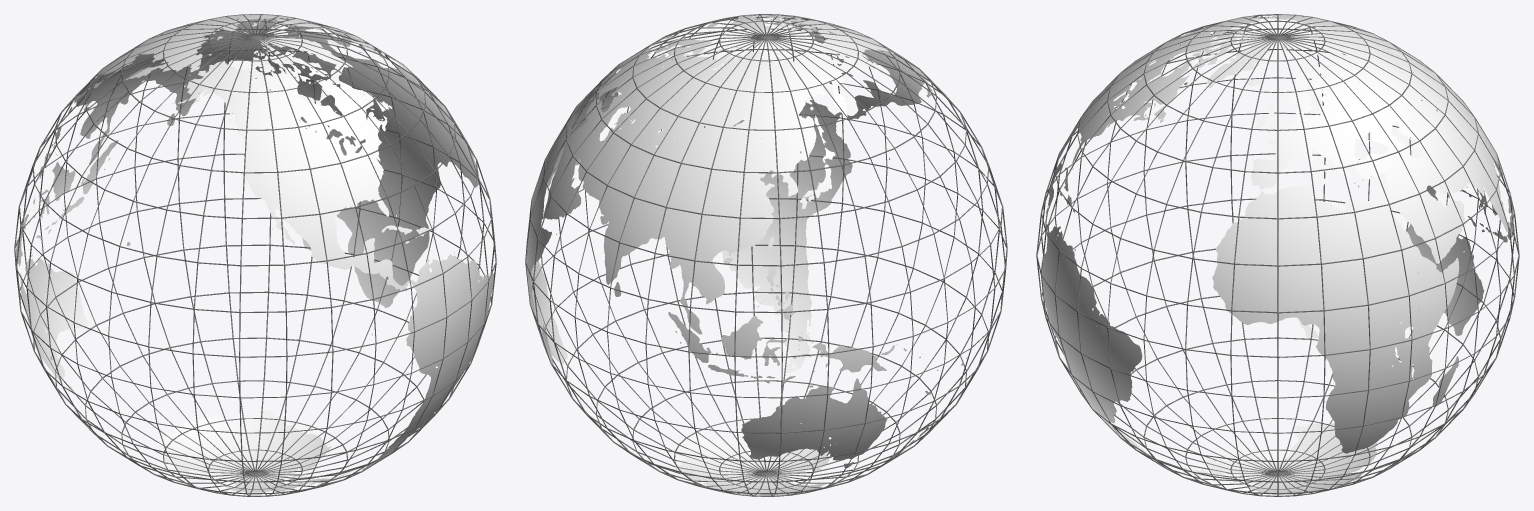
File: wireframe_earth3.glb
3 views of the same model, side by side, from view 1: azimuth 30°, elevation 25°; view 2: azimuth 150°, elevation 25°; view 3: azimuth 270°, elevation 25° (orthographic).
Parts seen in each view (by area): view 1: earth.001, wire.002; view 2: earth.001, wire.002; view 3: earth.001, wire.002.
Part boxes in pixels (bbox=[...]): earth.001: bbox=[16, 14, 494, 492]; wire.002: bbox=[14, 14, 496, 496]; earth.001: bbox=[526, 15, 986, 496]; wire.002: bbox=[525, 14, 1007, 496]; earth.001: bbox=[1041, 15, 1514, 494]; wire.002: bbox=[1036, 14, 1519, 496].
Size of the model in its own units: 2.03 by 2.03 by 2.03.
Materials: 2 (1 with a texture image).
